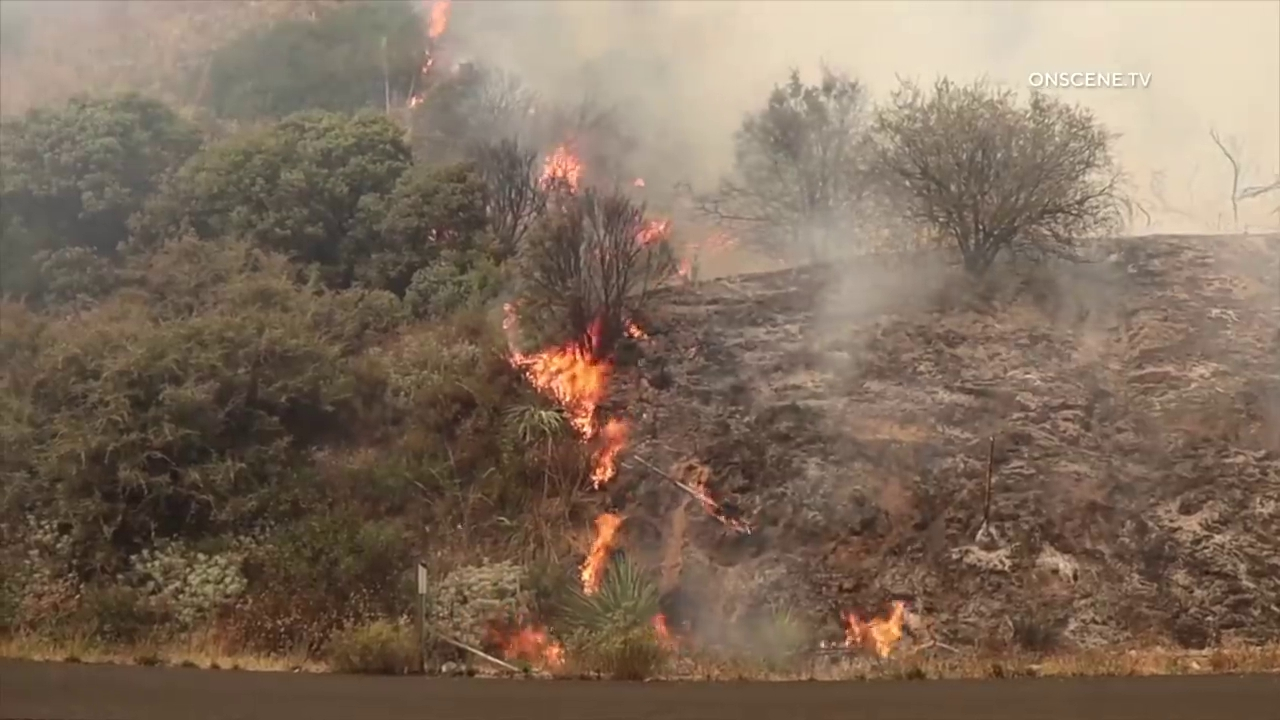forest_fire: (511, 322, 629, 487), (845, 600, 908, 658), (580, 512, 621, 595), (504, 627, 564, 668), (538, 147, 581, 194), (427, 0, 451, 42), (651, 612, 671, 643)
